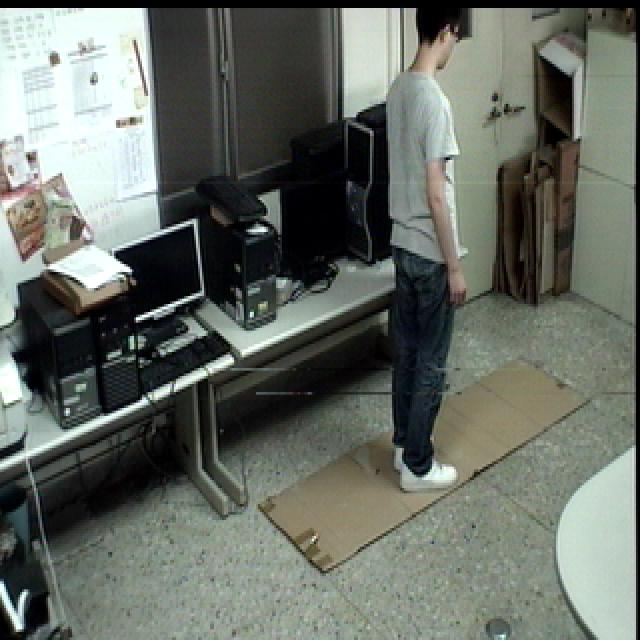stand: (367, 0, 478, 502)
